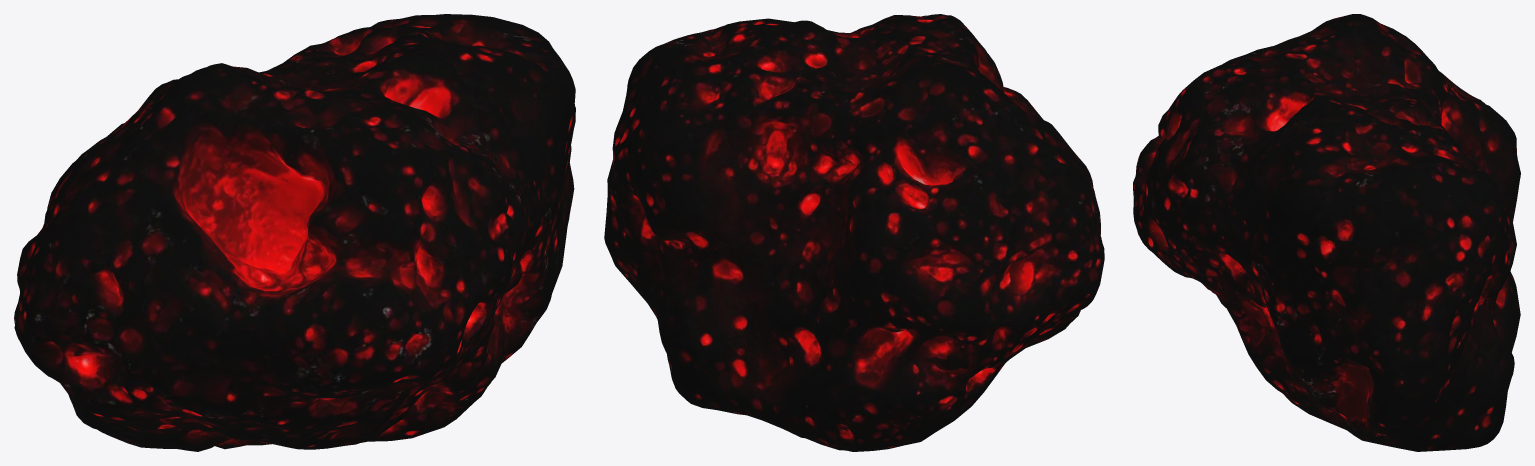
The model's file is meteor-transformed.glb.
The picture shows the model from 3 angles, left to right: view 1: azimuth 30°, elevation 25°; view 2: azimuth 150°, elevation 25°; view 3: azimuth 270°, elevation 25°; orthographic projection. The views are drawn at different scales.
Parts seen in each view (by area): view 1: Object_2; view 2: Object_2; view 3: Object_2.
Part boxes in pixels (x1,y1,x2,y2): Object_2: [14, 14, 575, 451]; Object_2: [604, 14, 1104, 451]; Object_2: [1133, 14, 1520, 451].
Size of the model in its own units: 16.92 by 12.18 by 12.23.
1 material, 1 textured.
